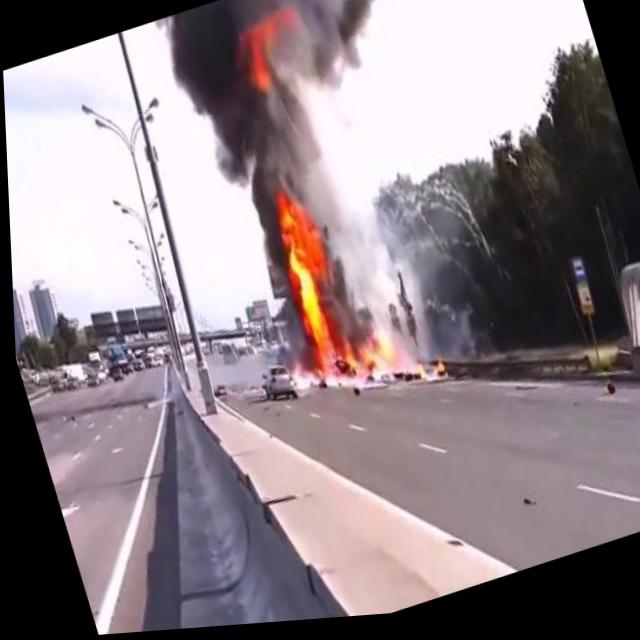fire: (257, 179, 366, 406), (232, 2, 312, 98), (353, 324, 399, 387), (412, 362, 447, 388)
